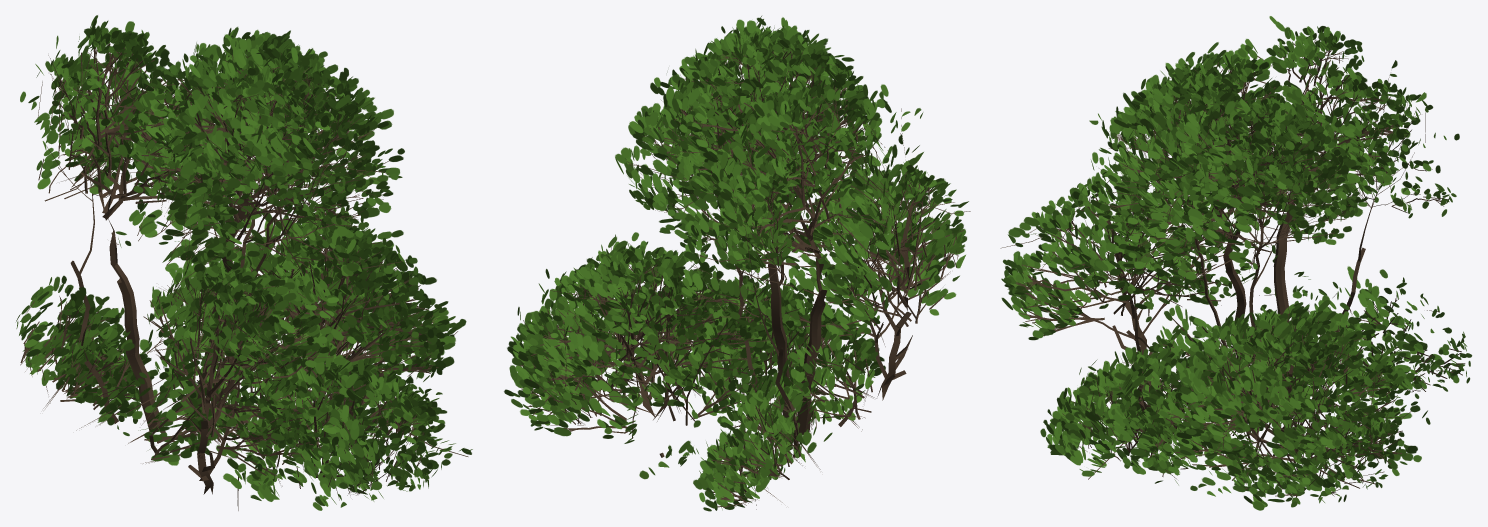
The picture shows the model from 3 angles, left to right: view 1: azimuth 30°, elevation 25°; view 2: azimuth 150°, elevation 25°; view 3: azimuth 270°, elevation 25°; orthographic projection. The views are drawn at different scales.
Visible parts, largest first — view 1: oak 01.001_trunk_Mat.001_0.297; view 2: oak 01.001_trunk_Mat.001_0.297; view 3: oak 01.001_trunk_Mat.001_0.297.
Part boxes in pixels (left/top/right/bottom): oak 01.001_trunk_Mat.001_0.297: left=16, top=15, right=472, bottom=510; oak 01.001_trunk_Mat.001_0.297: left=504, top=16, right=970, bottom=511; oak 01.001_trunk_Mat.001_0.297: left=1000, top=16, right=1472, bottom=510.
Bounding box in the file's own units: 3.84 × 4.36 × 4.82.
Materials: 2 (1 with a texture image).
